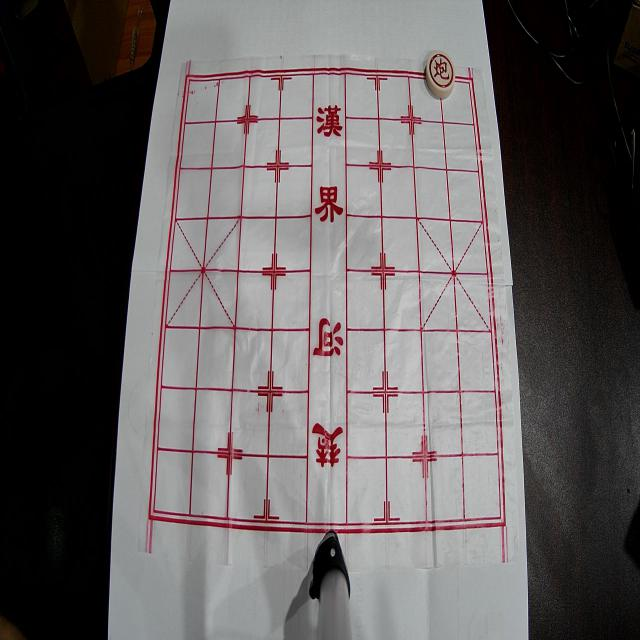red-cannon: (426, 51, 456, 99)
